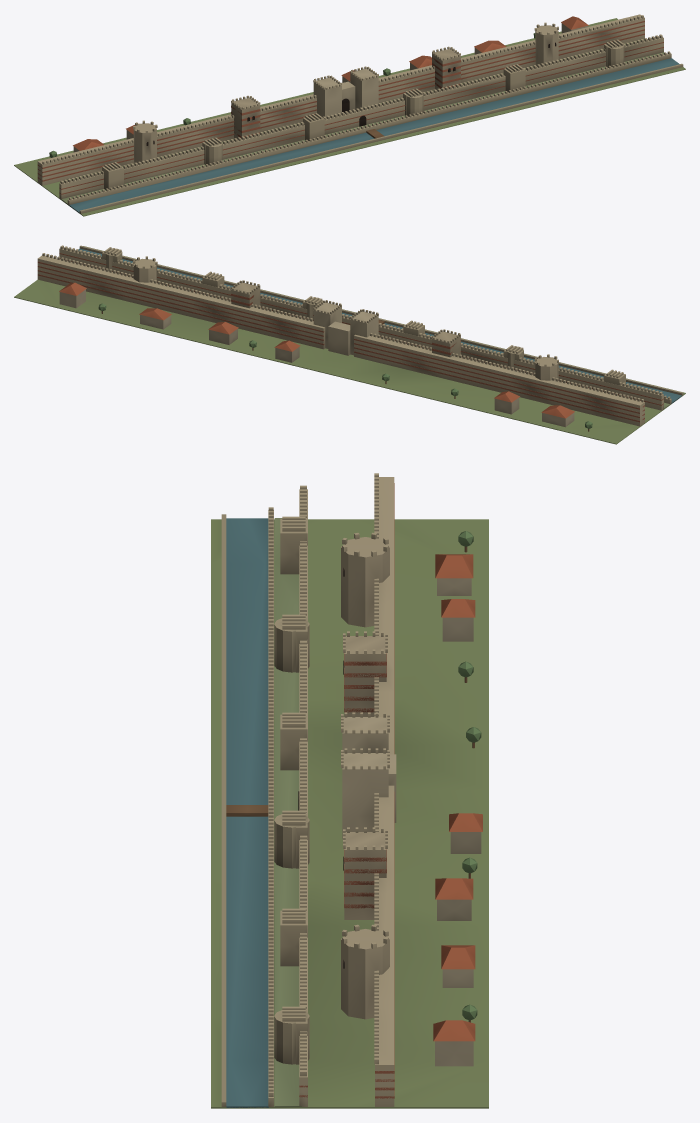
The model's file is theodosian-walls.glb.
3 renders of one model, top to bottom at view 1: azimuth 30°, elevation 25°; view 2: azimuth 150°, elevation 25°; view 3: azimuth 270°, elevation 25°, orthographic. The views are drawn at different scales.
Parts seen in each view (by area): view 1: p2_inner wall, p0_moat, p1_outer wall, p3_town; view 2: p2_inner wall, p0_moat, p1_outer wall, p3_town; view 3: p0_moat, p2_inner wall, p1_outer wall, p3_town.
Boxes of the visible parts, x1=… form: p2_inner wall: x1=37, y1=14, x2=644, y2=185; p0_moat: x1=14, y1=18, x2=685, y2=216; p1_outer wall: x1=59, y1=34, x2=663, y2=198; p3_town: x1=49, y1=16, x2=588, y2=157; p2_inner wall: x1=37, y1=253, x2=644, y2=426; p0_moat: x1=14, y1=245, x2=685, y2=444; p1_outer wall: x1=59, y1=245, x2=663, y2=410; p3_town: x1=59, y1=282, x2=592, y2=431; p0_moat: x1=211, y1=507, x2=488, y2=1108; p2_inner wall: x1=226, y1=473, x2=396, y2=1106; p1_outer wall: x1=274, y1=485, x2=309, y2=1106; p3_town: x1=433, y1=531, x2=482, y2=1066.
Bounding box in the file's own units: 360 × 21.69 × 72.01.
